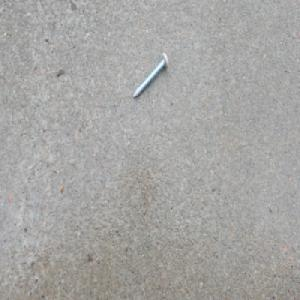Nail: (132, 51, 169, 101)
